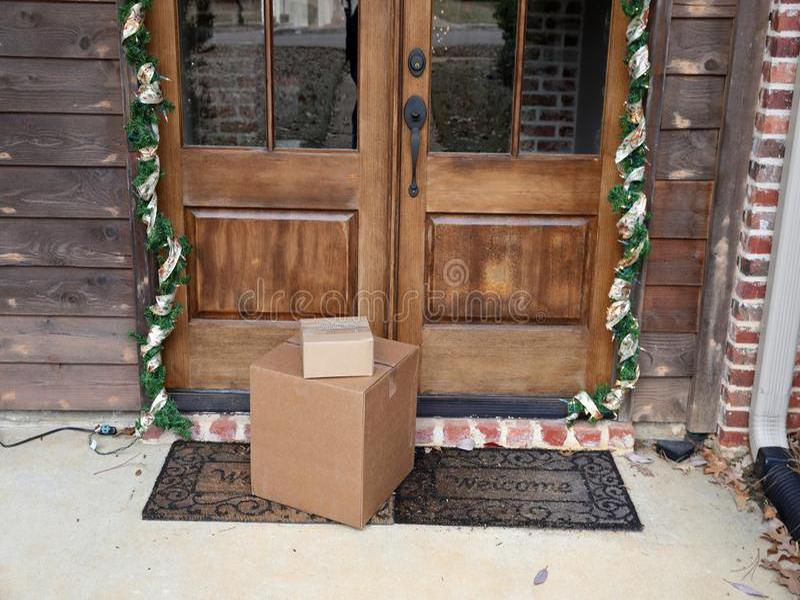package: (243, 352, 424, 538), (292, 312, 377, 384)
